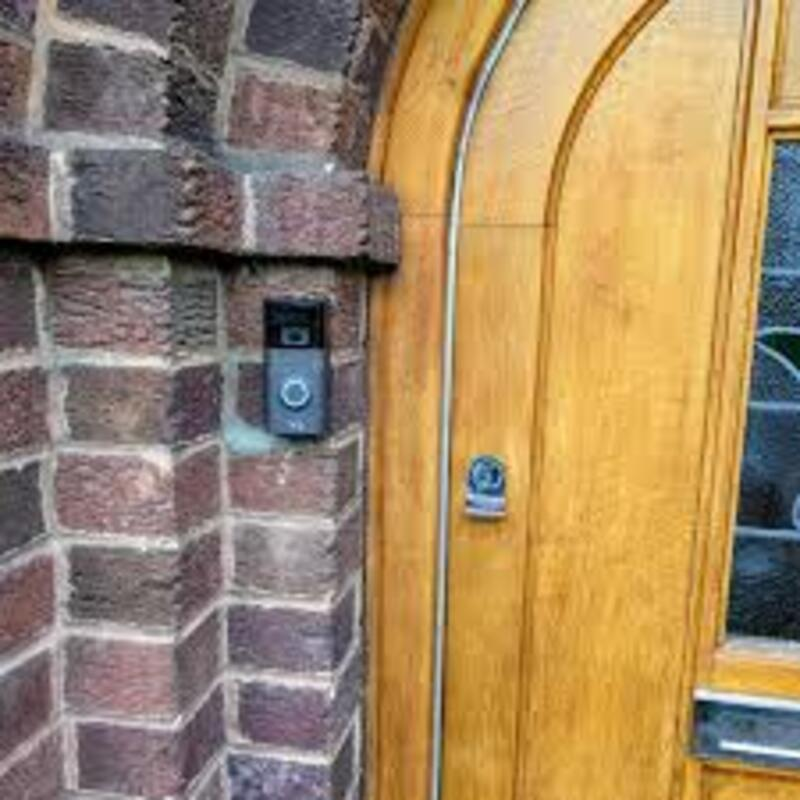doorbell: (252, 283, 335, 443)
